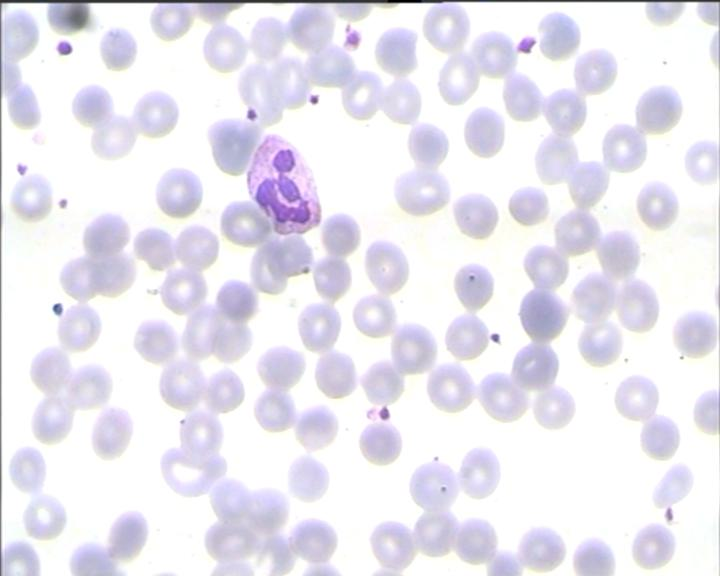neut: (244, 133, 327, 235)
